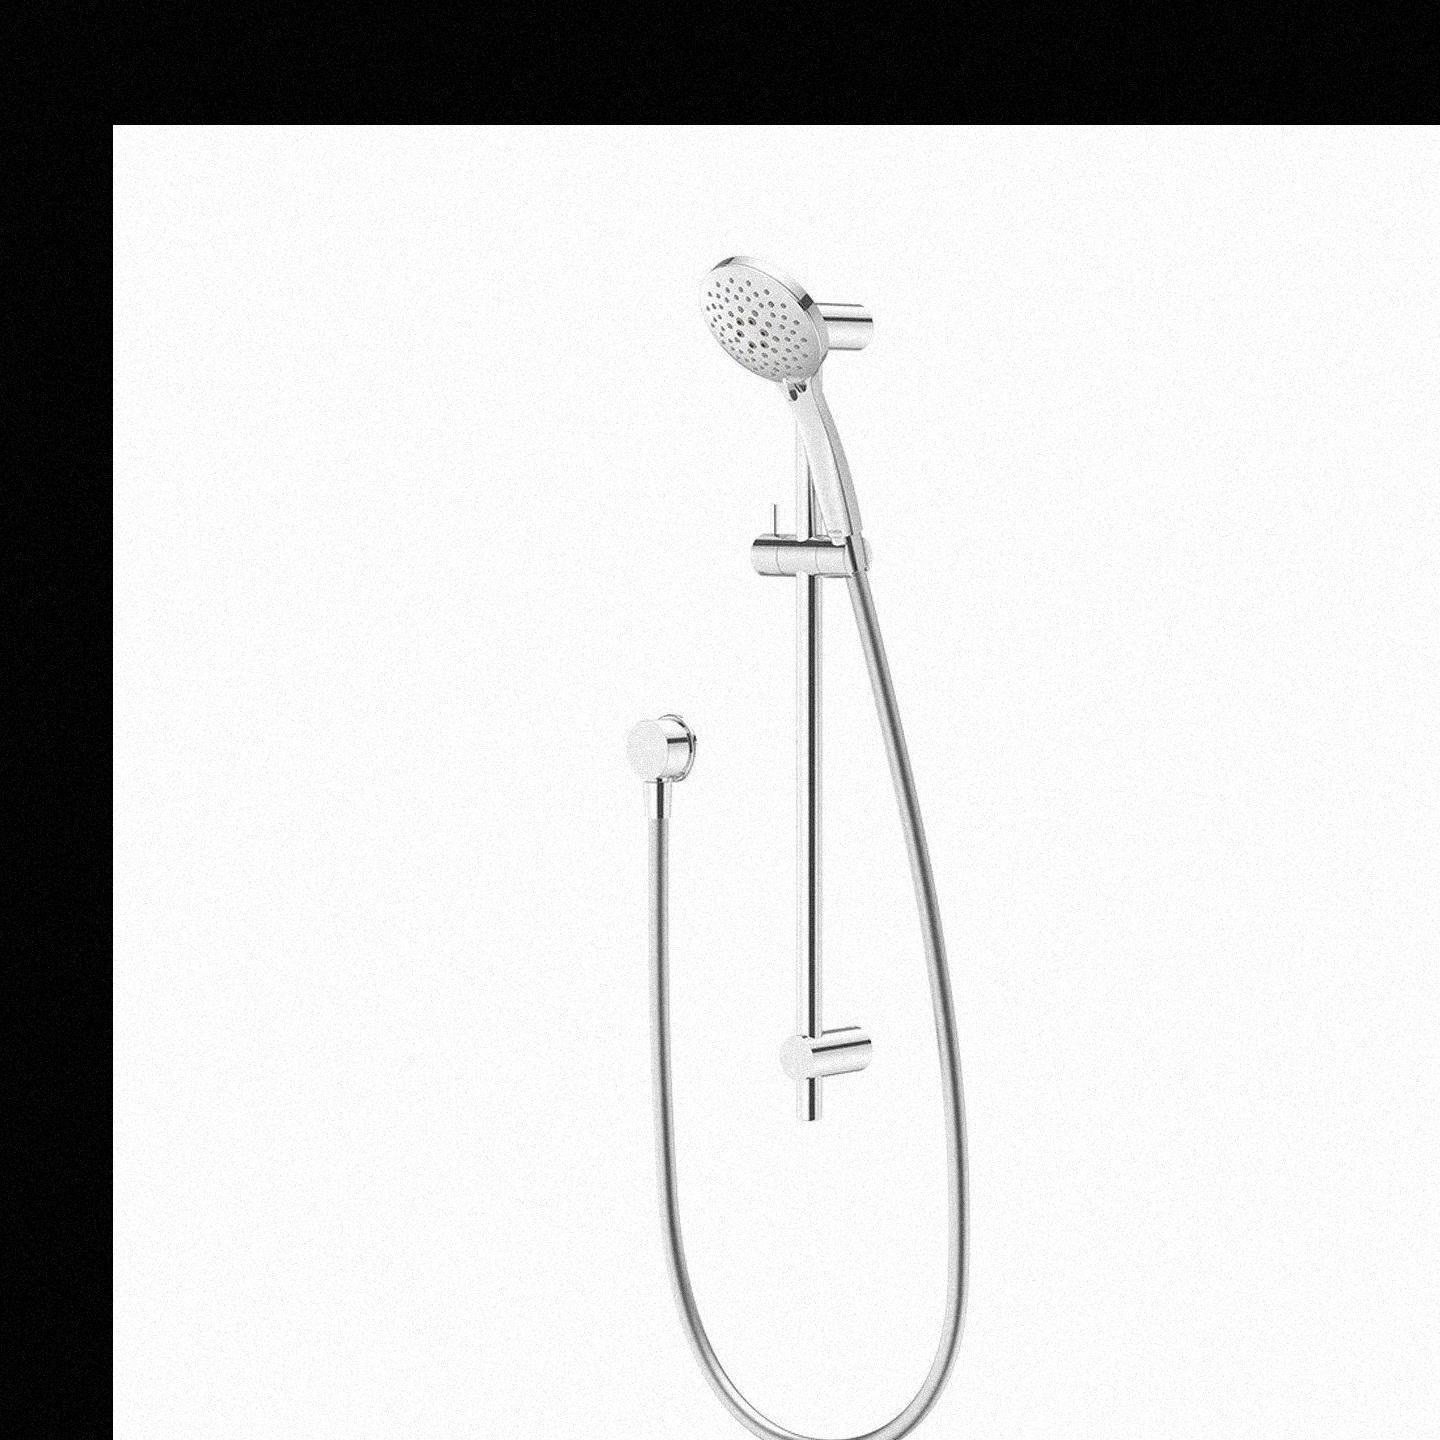Ducha: (593, 229, 1018, 1440)
